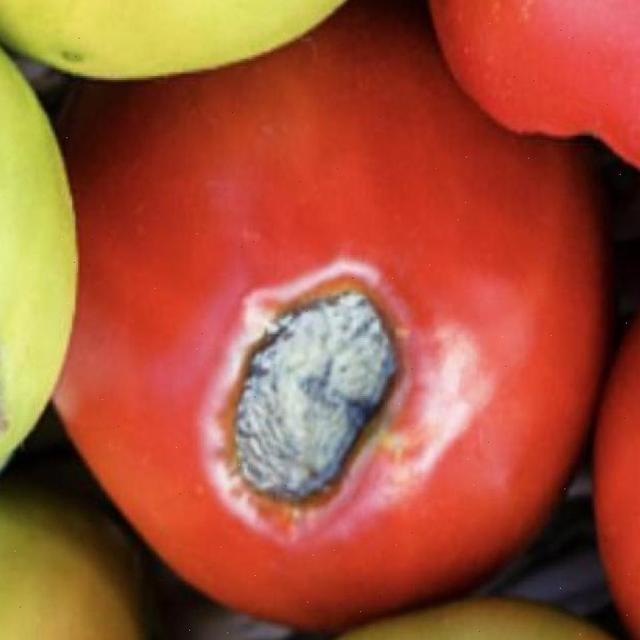Blossom End Rot Fruit: (139, 176, 276, 360)
